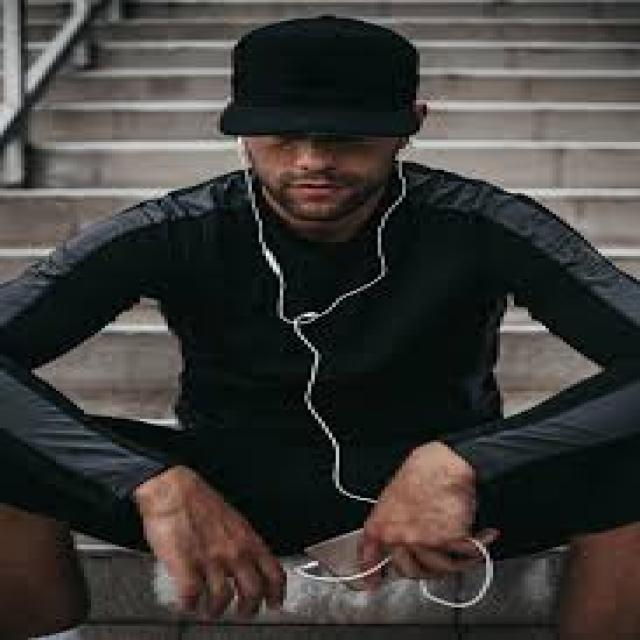suspicious-objects: (226, 16, 423, 136)
